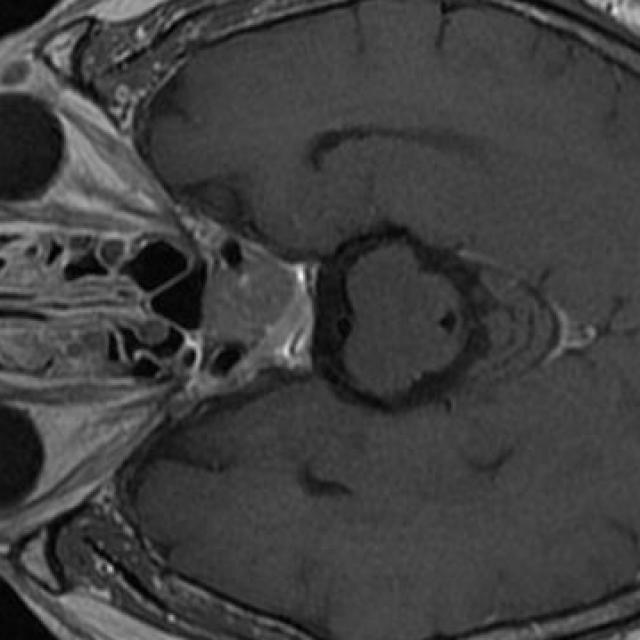pituitary: (205, 264, 299, 348)
